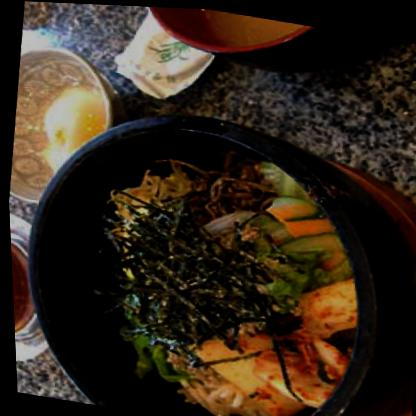bibimbap: (20, 123, 387, 415)
